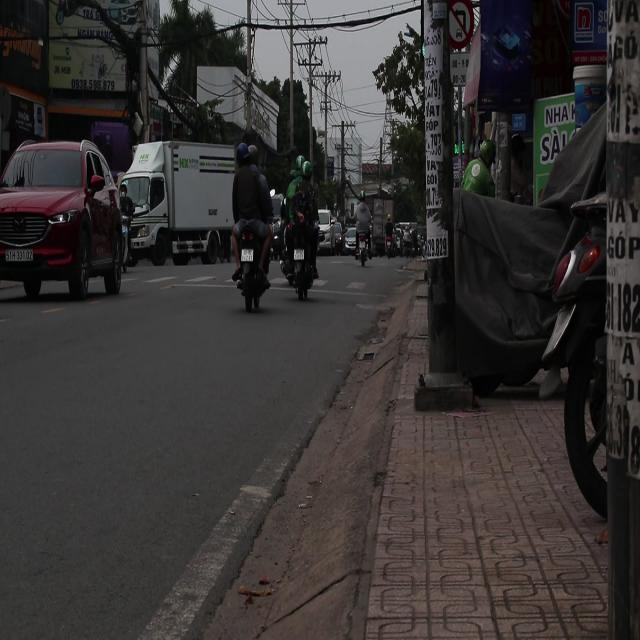car: (1, 138, 128, 302), (326, 217, 345, 254)
motorbike: (231, 219, 272, 311), (356, 233, 372, 266)
truck: (119, 141, 237, 268)
